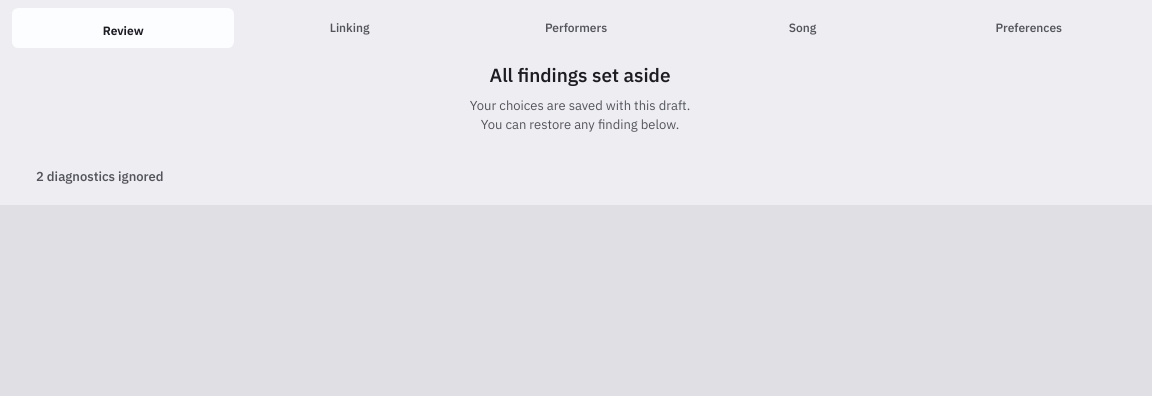
RightPanel › distinguishes matching ignored words by their current section and line and reveals without restoring
What coordinates should you click on to do the following:
click the button "2 diagnostics ignored"
I would click on:
 (100, 176)
Its box is [28, 159, 1132, 195].
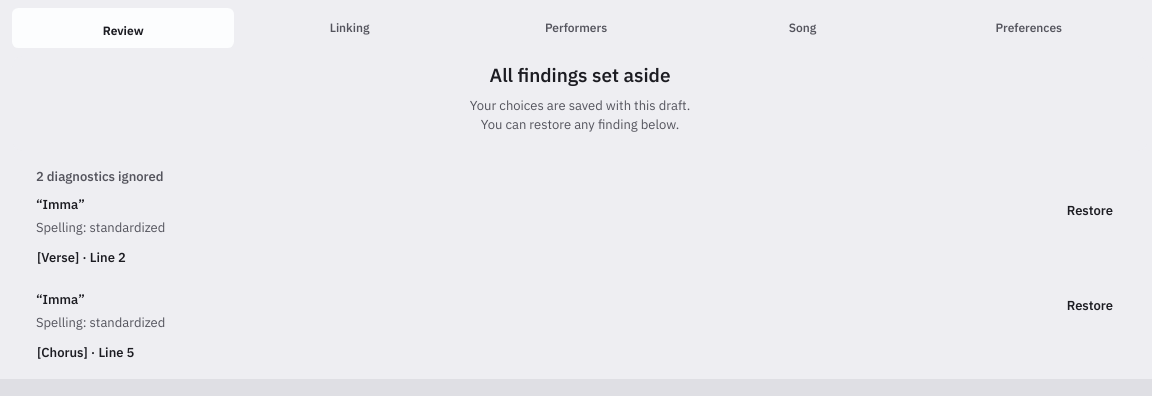
Expected: the button with aria-label "Show [Verse] · Line 2" is shown, [26, 242, 137, 274]
What coordinates should you click on to do the following:
click the button with aria-label "Show [Chorus] · Line 5"
I would click on:
 (86, 353)
Its box is [26, 337, 145, 369].
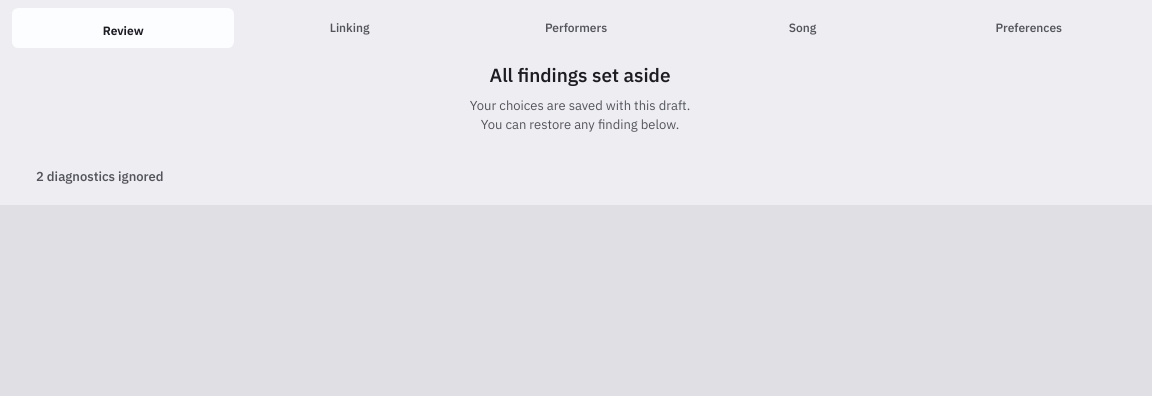
What coordinates should you click on to do the following:
click the button "2 diagnostics ignored"
I would click on:
 (100, 176)
Its box is [28, 159, 1132, 195].
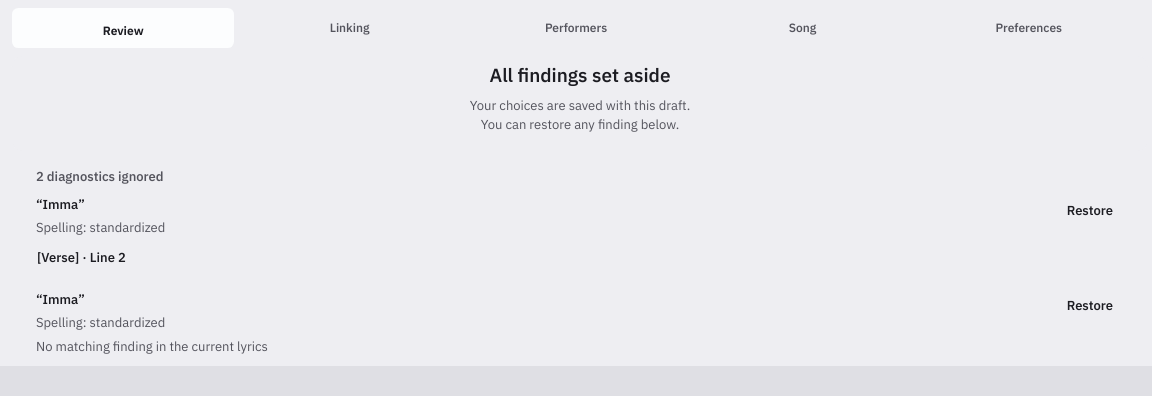
Expected: the button with aria-label "Show [Verse] · Line 2" is shown, [26, 242, 137, 274]
Expected: the text "No matching finding in the current lyrics" is shown once, [36, 337, 268, 356]
